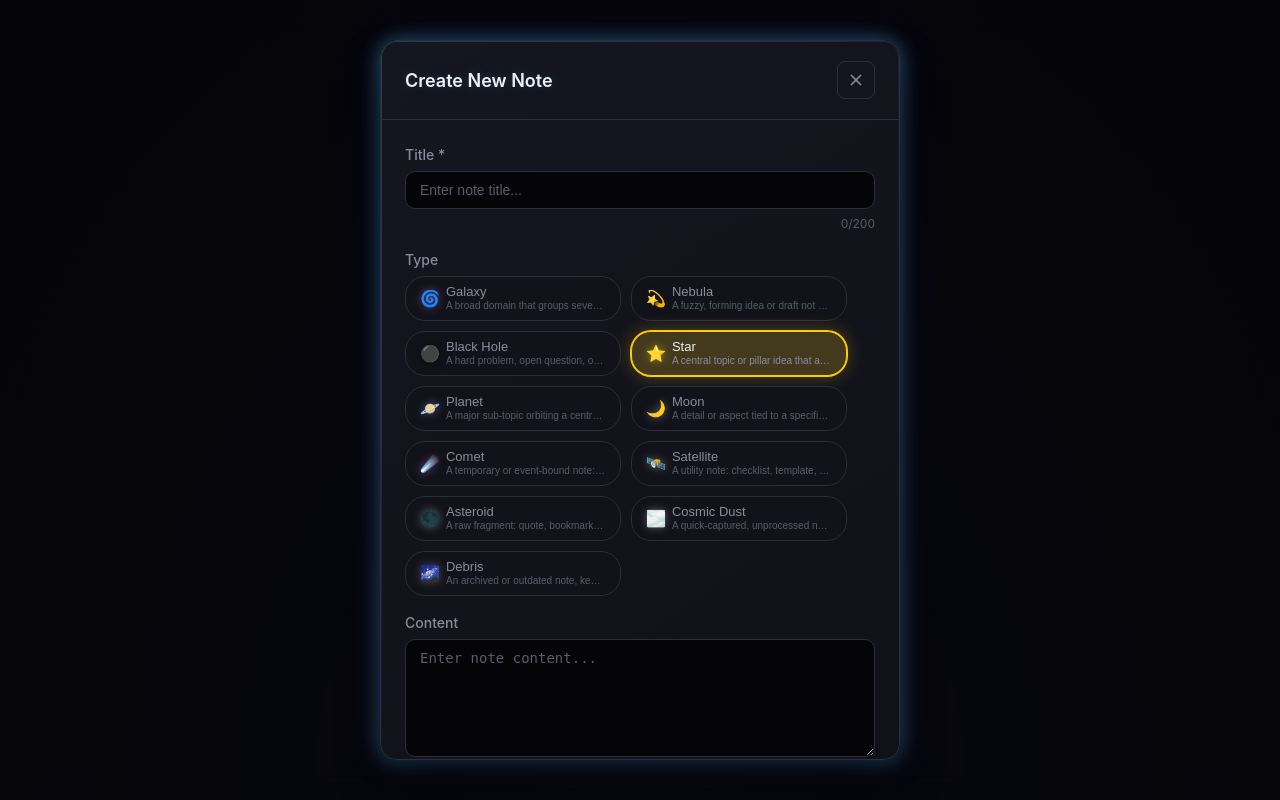
Test: CreateNoteModal › disables submit button while loading
Step 1. Type "Test Note" into the field with placeholder "Enter note title..." → (640, 190), box left=405, top=171, right=875, bottom=209
(page scrolled)
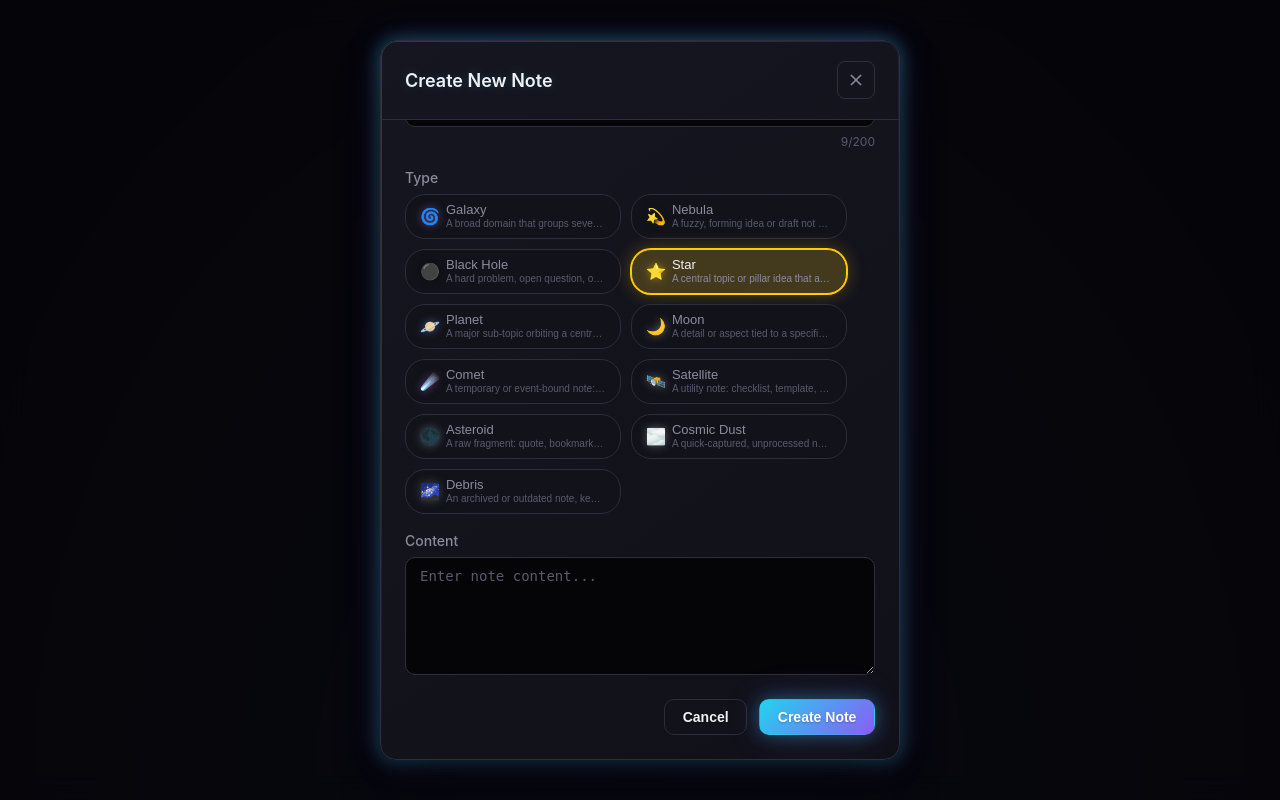
# Отправляем
Step 2. Click the button "Create Note" → click(817, 717), box left=759, top=699, right=875, bottom=735
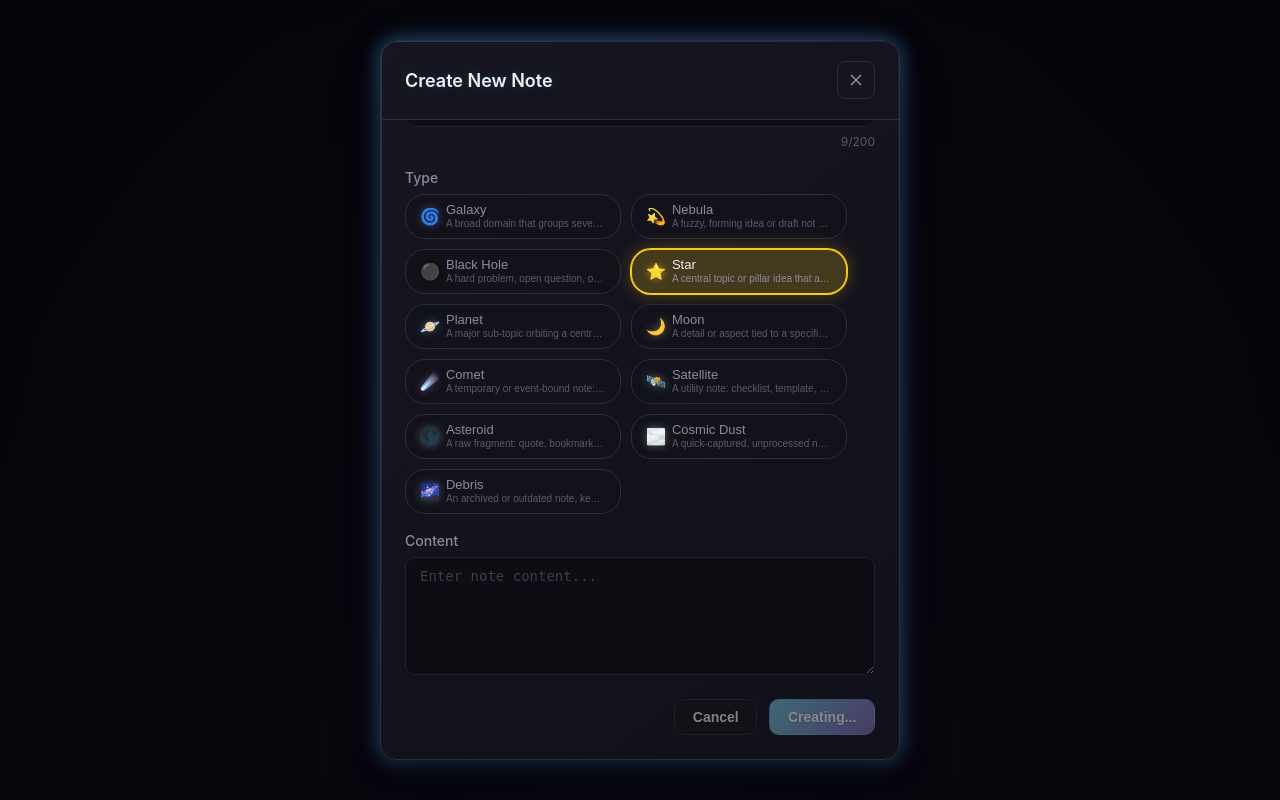
Expected: the button "Creating..." is disabled, left=769, top=699, right=875, bottom=735
